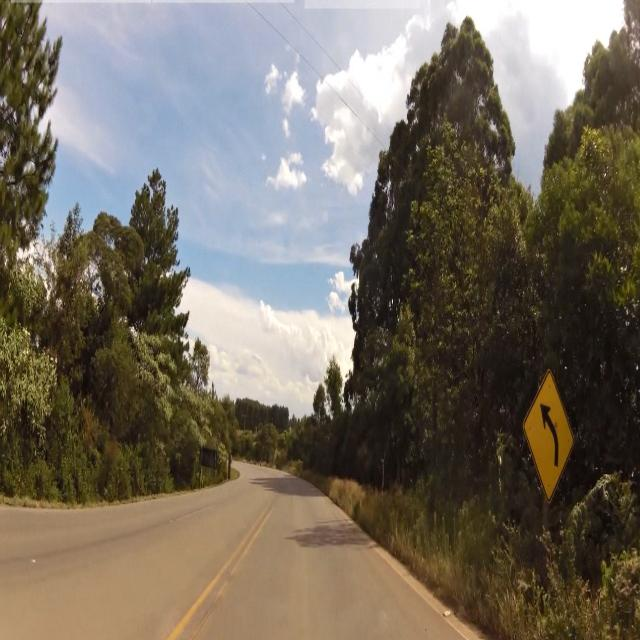A-2a: (522, 372, 575, 502)
